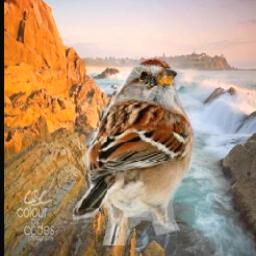Sparrow: (74, 58, 196, 247)
